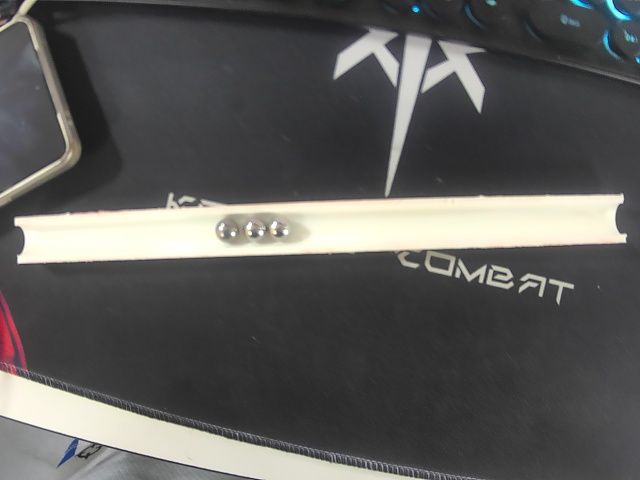steelball: (215, 218, 240, 242), (243, 219, 269, 242), (268, 218, 292, 240)
